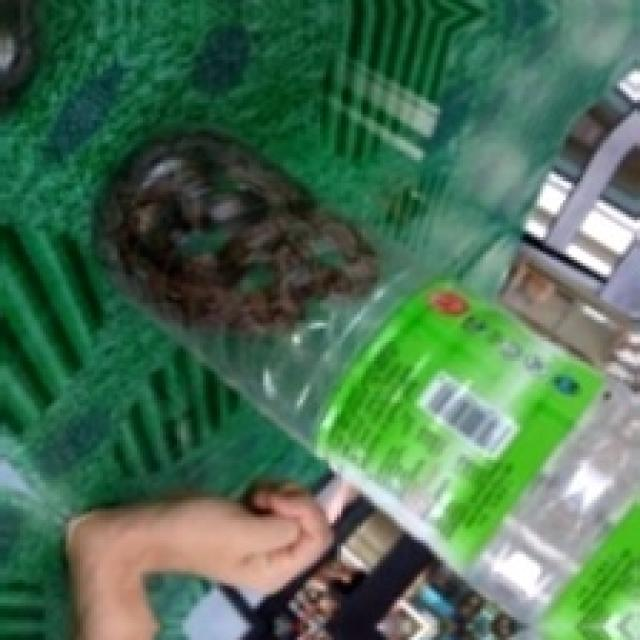reticulated python: (100, 131, 374, 331)
